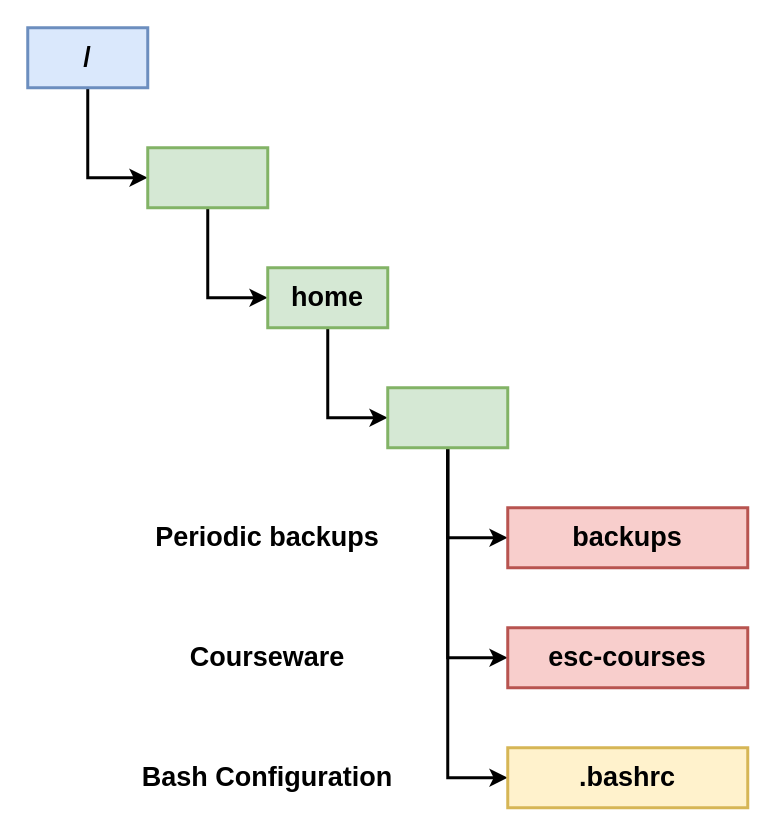
Image size: 774x834. Some labels were removed from this diagram. The centre of each missing label's shape, as x and y in pixels:
"escnfs" belongs at point (207, 177).
"pbui" belongs at point (447, 417).
